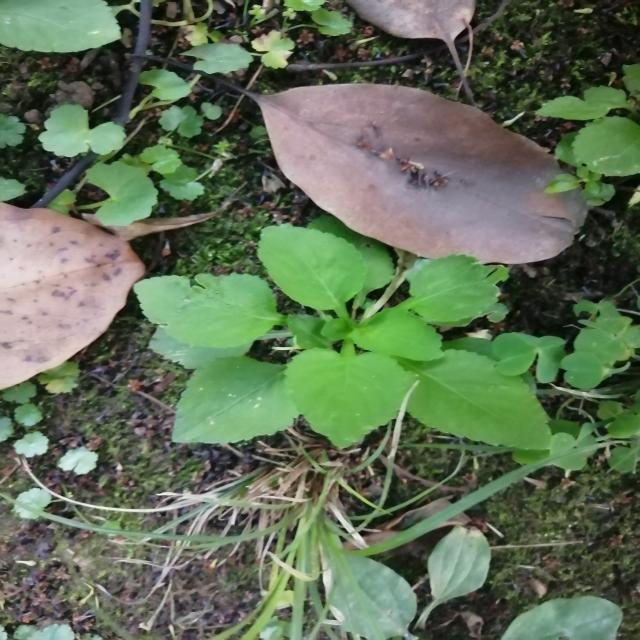Viola: (138, 224, 545, 471)
